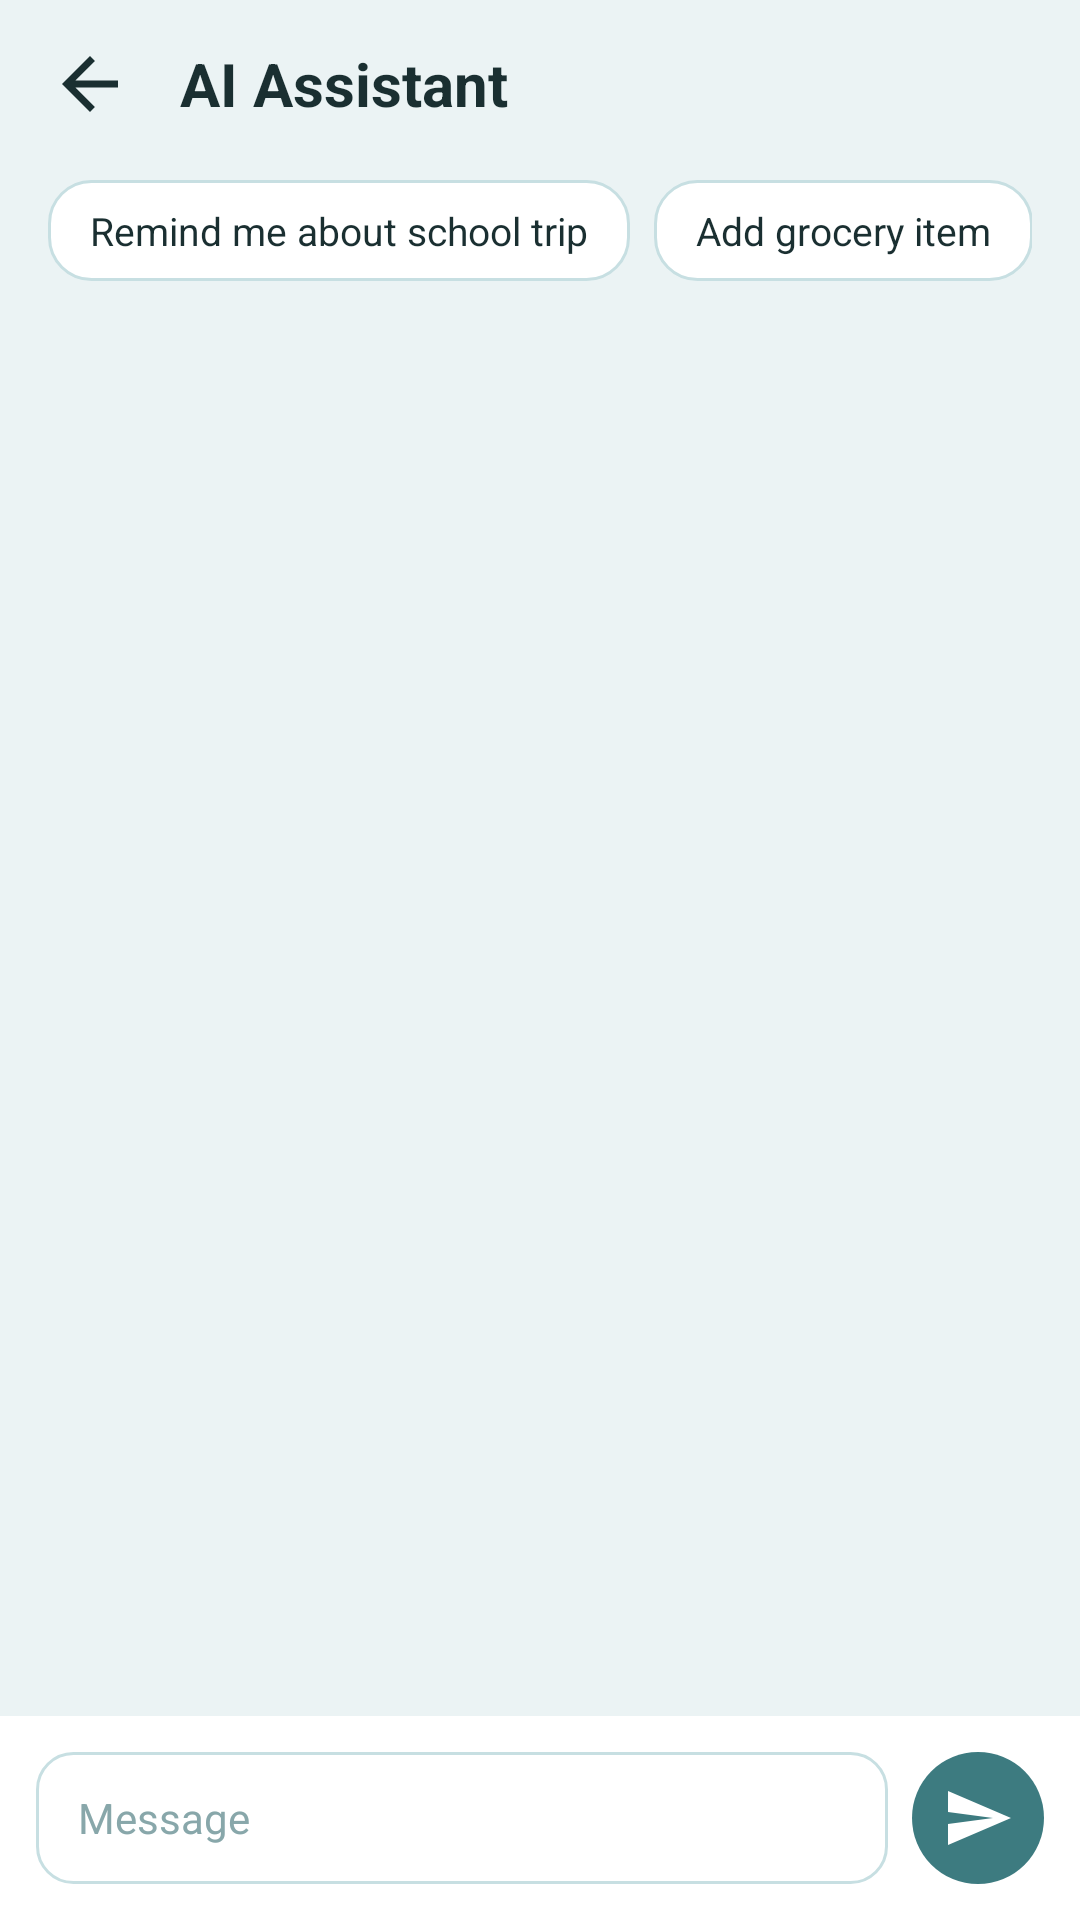

Where to tap for icons on this 1080 × 1920 app screen, as [x,y]:
Back: [90,84]
Send: [978,1818]
